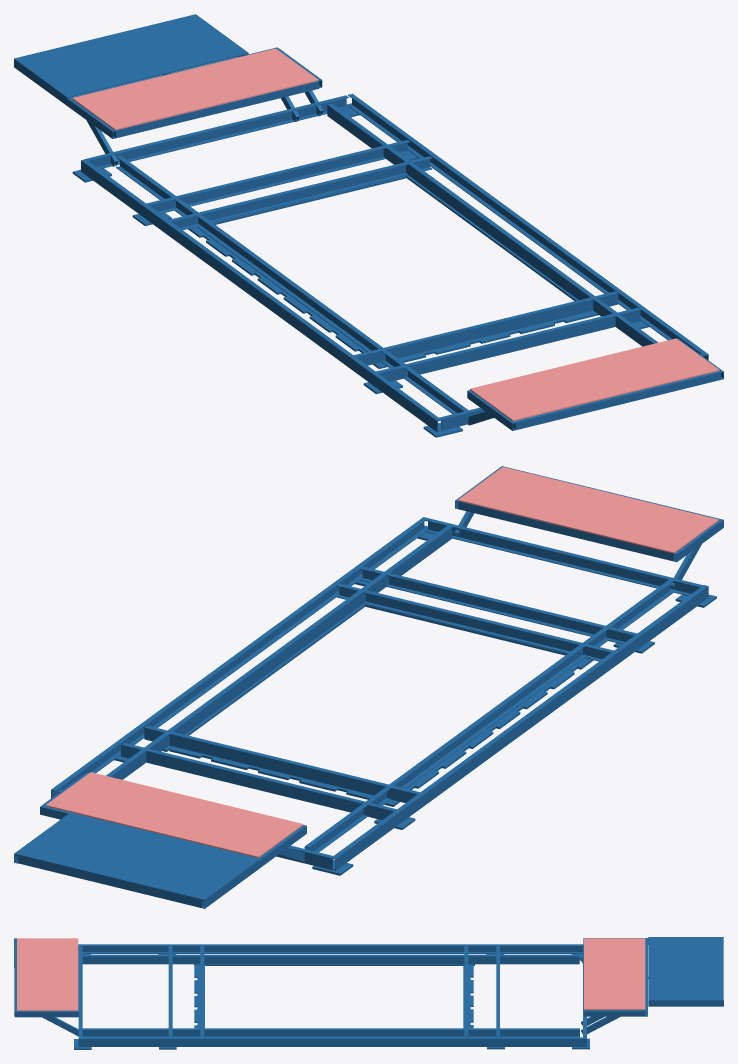
Rendered from Phase01_frame.fbx.
3 renders of one model, top to bottom at view 1: azimuth 30°, elevation 25°; view 2: azimuth 150°, elevation 25°; view 3: azimuth 270°, elevation 25°, orthographic. The views are drawn at different scales.
Parts seen in each view (by area): view 1: Лист ПВ_700.900_ГОСТ 8706-78:CPS_Лист ПВ 406*700*900_Л-1_поз (×3), ral5015 (×5), Швелер-опора:Швелер-опора:783326, Швелер-опора:Швелер-опора:783327, Швелер-опора:Швелер-опора:783359, Швелер-опора:Швелер-опора:783358, Балка 40-80:Балка 40-80:783353, Балка 40-80:Балка 40-80:783346, внутренняя опора 2:внутренняя опора 2:783367, внутренняя опора:внутренняя опора:783328, Балка 40-80:Балка 40-80:783342, внутренняя опора 2:внутренняя опора 2:783368; view 2: Лист ПВ_700.900_ГОСТ 8706-78:CPS_Лист ПВ 406*700*900_Л-1_поз (×3), ral5015 (×5), Швелер-опора:Швелер-опора:783326, Швелер-опора:Швелер-опора:783327, Швелер-опора:Швелер-опора:783359, Швелер-опора:Швелер-опора:783358, Балка 40-80:Балка 40-80:783354, внутренняя опора 2:внутренняя опора 2:783367, Балка 40-80:Балка 40-80:783344, внутренняя опора:внутренняя опора:783366, Балка 40-80:Балка 40-80:783342, внутренняя опора 2:внутренняя опора 2:783368; view 3: Лист ПВ_700.900_ГОСТ 8706-78:CPS_Лист ПВ 406*700*900_Л-1_поз (×3), Швелер-опора:Швелер-опора:783359, Швелер-опора:Швелер-опора:783327, Швелер-опора:Швелер-опора:783326, Швелер-опора:Швелер-опора:783358, ral5015 (×7), внутренняя опора 2:внутренняя опора 2:783367, внутренняя опора:внутренняя опора:783328, внутренняя опора:внутренняя опора:783366, Балка 40-80:Балка 40-80:783343, Балка 40-80:Балка 40-80:783351, Балка 40-80:Балка 40-80:783347 (+2 smaller).
Part boxes in pixels (x1,y1,x2,y2): Лист ПВ_700.900_ГОСТ 8706-78:CPS_Лист ПВ 406*700*900_Л-1_поз (×3): (14,14,719,421); ral5015 (×5): (84,95,640,381); Швелер-опора:Швелер-опора:783326: (81,159,441,432); Швелер-опора:Швелер-опора:783327: (348,93,708,359); Швелер-опора:Швелер-опора:783359: (116,155,468,414); Швелер-опора:Швелер-опора:783358: (327,103,657,346); Балка 40-80:Балка 40-80:783353: (514,371,720,429); Балка 40-80:Балка 40-80:783346: (116,81,319,137); внутренняя опора 2:внутренняя опора 2:783367: (188,227,387,368); внутренняя опора:внутренняя опора:783328: (398,311,594,362); Балка 40-80:Балка 40-80:783342: (14,60,116,138); внутренняя опора 2:внутренняя опора 2:783368: (405,175,598,315); Лист ПВ_700.900_ГОСТ 8706-78:CPS_Лист ПВ 406*700*900_Л-1_поз (×3): (14,467,718,900); ral5015 (×5): (121,518,702,819); Швелер-опора:Швелер-опора:783326: (331,585,708,870); Швелер-опора:Швелер-опора:783327: (51,517,427,798); Швелер-опора:Швелер-опора:783359: (304,579,673,852); Швелер-опора:Швелер-опора:783358: (106,525,452,779); Балка 40-80:Балка 40-80:783354: (458,501,673,561); внутренняя опора 2:внутренняя опора 2:783367: (384,658,593,806); Балка 40-80:Балка 40-80:783344: (18,856,200,907); внутренняя опора:внутренняя опора:783366: (169,746,373,799); Балка 40-80:Балка 40-80:783342: (201,825,306,908); внутренняя опора 2:внутренняя опора 2:783368: (162,604,365,751); Лист ПВ_700.900_ГОСТ 8706-78:CPS_Лист ПВ 406*700*900_Л-1_поз (×3): (17,937,723,1010); Швелер-опора:Швелер-опора:783359: (82,954,579,964); Швелер-опора:Швелер-опора:783327: (78,1037,586,1046); Швелер-опора:Швелер-опора:783326: (78,944,583,953); Швелер-опора:Швелер-опора:783358: (82,1028,579,1037); ral5015 (×7): (42,945,620,1037); внутренняя опора 2:внутренняя опора 2:783367: (194,964,474,965); внутренняя опора:внутренняя опора:783328: (194,964,204,1028); внутренняя опора:внутренняя опора:783366: (463,964,473,1028); Балка 40-80:Балка 40-80:783343: (648,1000,723,1006); Балка 40-80:Балка 40-80:783351: (14,1010,78,1017); Балка 40-80:Балка 40-80:783347: (584,1010,645,1016).
Bounding box in the file's own units: 3150 × 9599 × 398.
